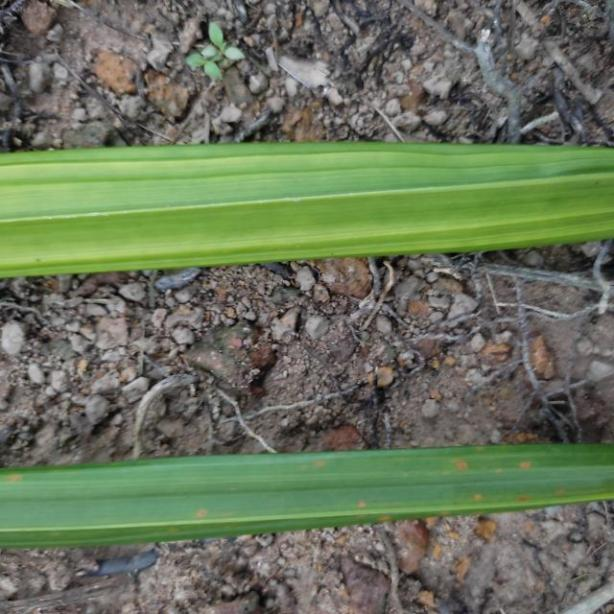nitrogen: (0, 142, 614, 277), (0, 438, 614, 552)
